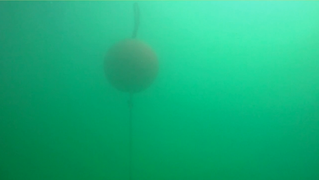buoy: (102, 38, 159, 93)
